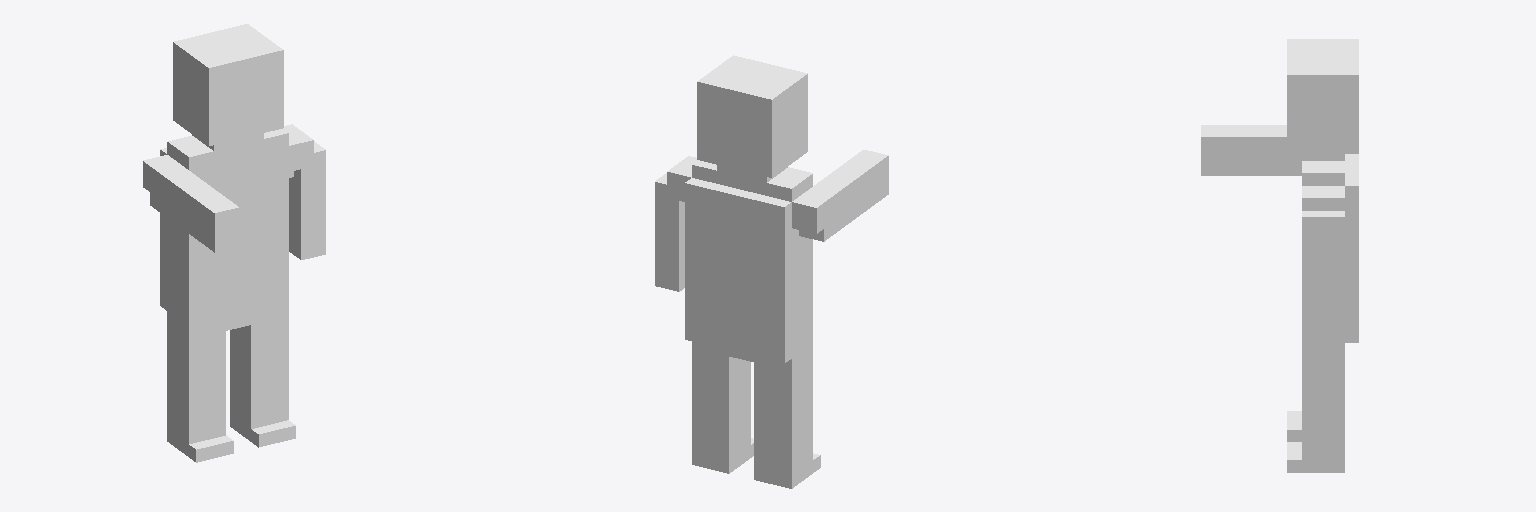
File: Homo.obj
3 renders of one model, left to right at view 1: azimuth 30°, elevation 25°; view 2: azimuth 150°, elevation 25°; view 3: azimuth 270°, elevation 25°, orthographic.
Parts seen in each view (by area): view 1: object 1; view 2: object 1; view 3: object 1.
Boxes of the visible parts, <box> form: object 1: <box>143,24,325,462</box>; object 1: <box>655,55,888,488</box>; object 1: <box>1201,39,1358,472</box>.
Size of the model in its own units: 1.3 by 3 by 1.1.